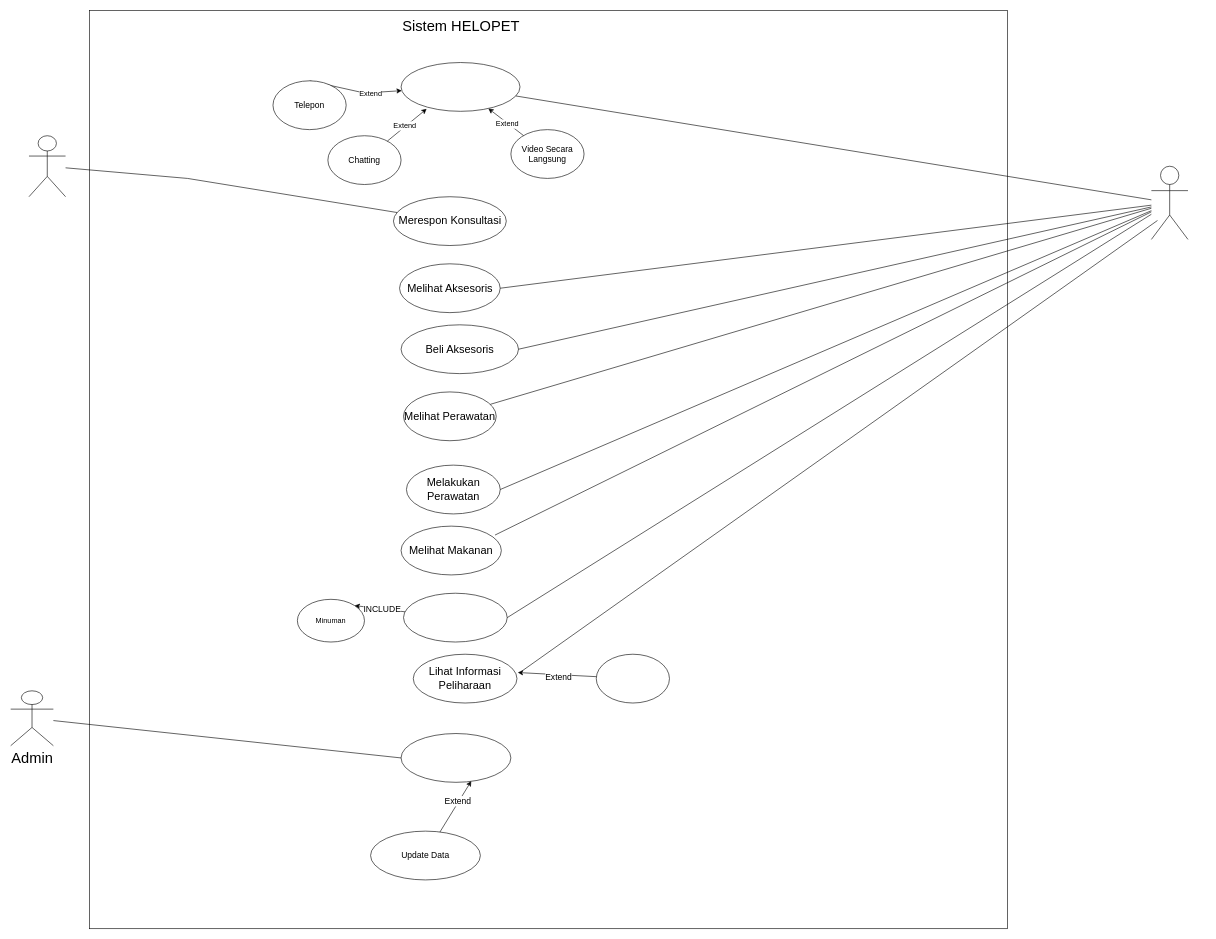
Image size: 1216x939. Some labels were removed from this diagram. Each missing label, with the box of its shape:
Customers: (1151, 166, 1188, 239)
Dokter: (28, 135, 66, 197)
Layanan Konsultasi: (400, 62, 520, 111)
Memesan Makanan: (403, 593, 507, 642)
Mengelola Data: (400, 733, 511, 782)
Print Data: (596, 654, 669, 703)
